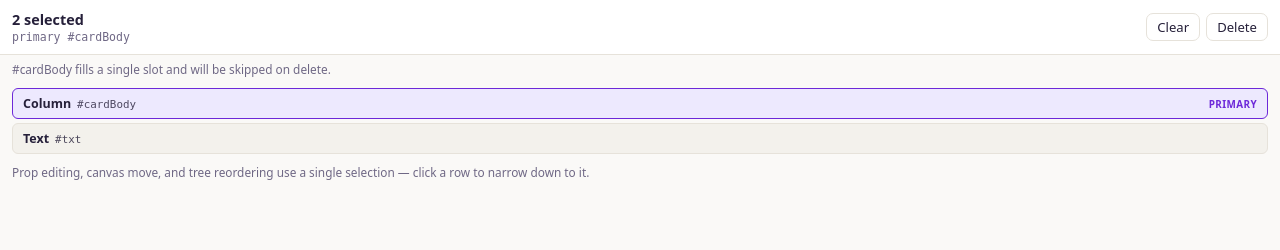
Test: Inspector multi-selection state (contract §4f) › warns about single-slot occupants and skips them on Delete
The image size is (1280, 250).
Expected: the text with test id "inspector-multi-hint" reads "#cardBody fills a single slot and will be skipped on delete.", [12,61,331,77]
Click the button with test id "inspector-multi-delete" at (1237, 27), box [1206,13,1268,41]
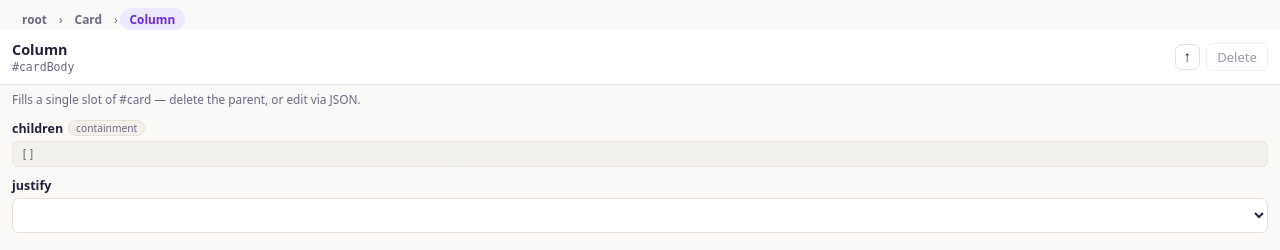
Expected: the text with test id "inspector-delete-hint" is shown, [12,91,361,107]
